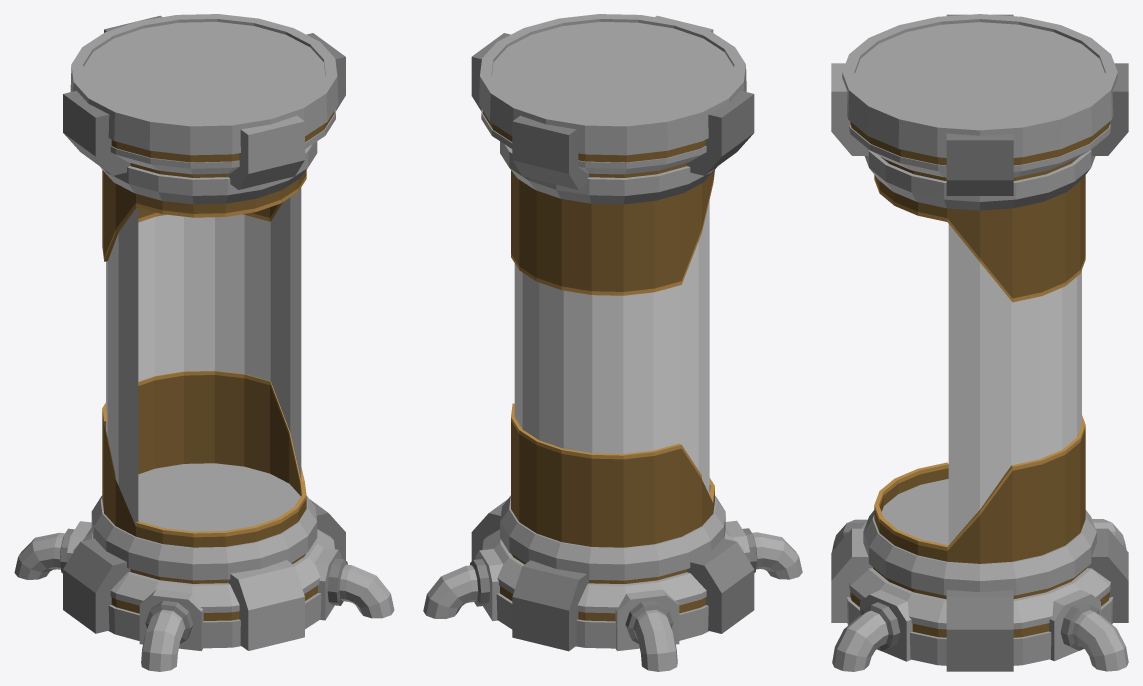
The model's file is teleport_pod.fbx.
3 views of the same model, side by side, from view 1: azimuth 30°, elevation 25°; view 2: azimuth 150°, elevation 25°; view 3: azimuth 270°, elevation 25° (orthographic). The views are drawn at different scales.
Parts seen in each view (by area): view 1: Props_Pod; view 2: Props_Pod; view 3: Props_Pod.
Boxes of the visible parts, x1=… form: Props_Pod: x1=14, y1=14, x2=394, y2=671; Props_Pod: x1=423, y1=14, x2=802, y2=671; Props_Pod: x1=831, y1=14, x2=1128, y2=671.
Bounding box in the file's own units: 181 × 361 × 181.
